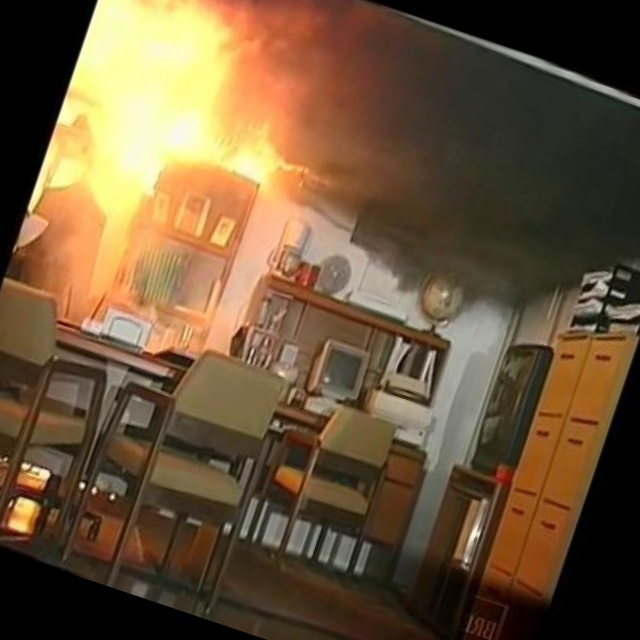fire: (65, 0, 326, 168)
smoke: (293, 7, 640, 324)
